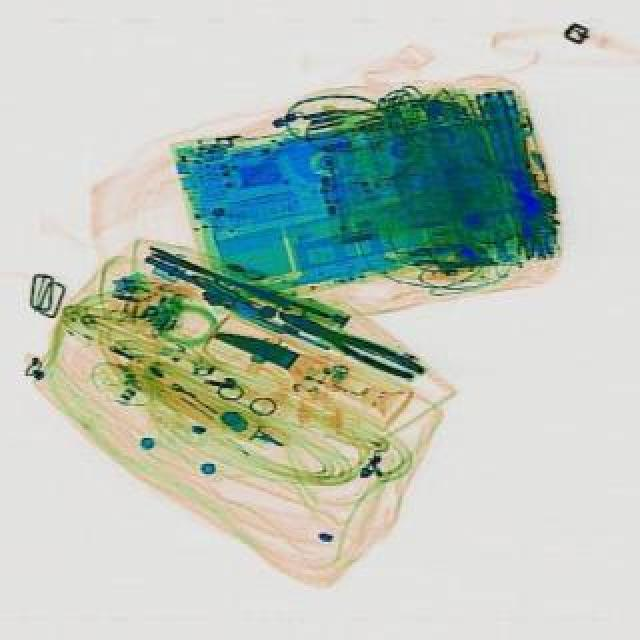wrench: (270, 308, 426, 388)
